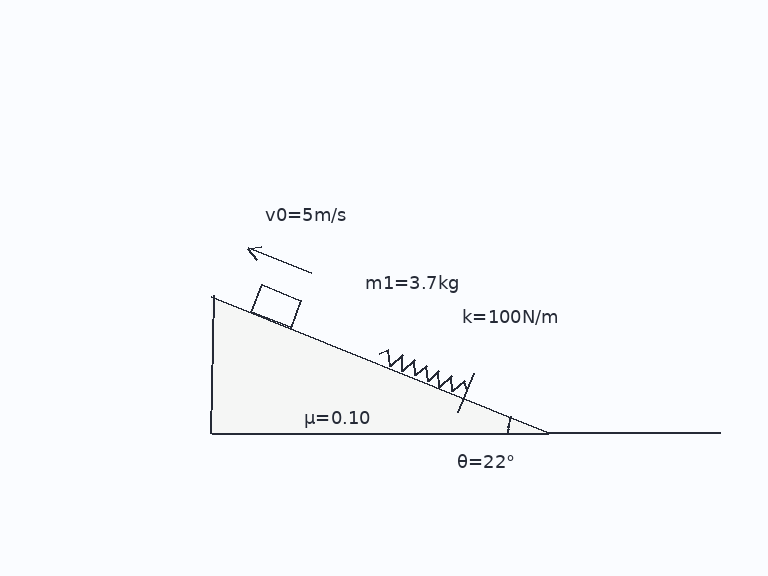block: (249, 282, 303, 330)
ramp: (209, 294, 550, 434)
spring: (378, 348, 469, 393)
